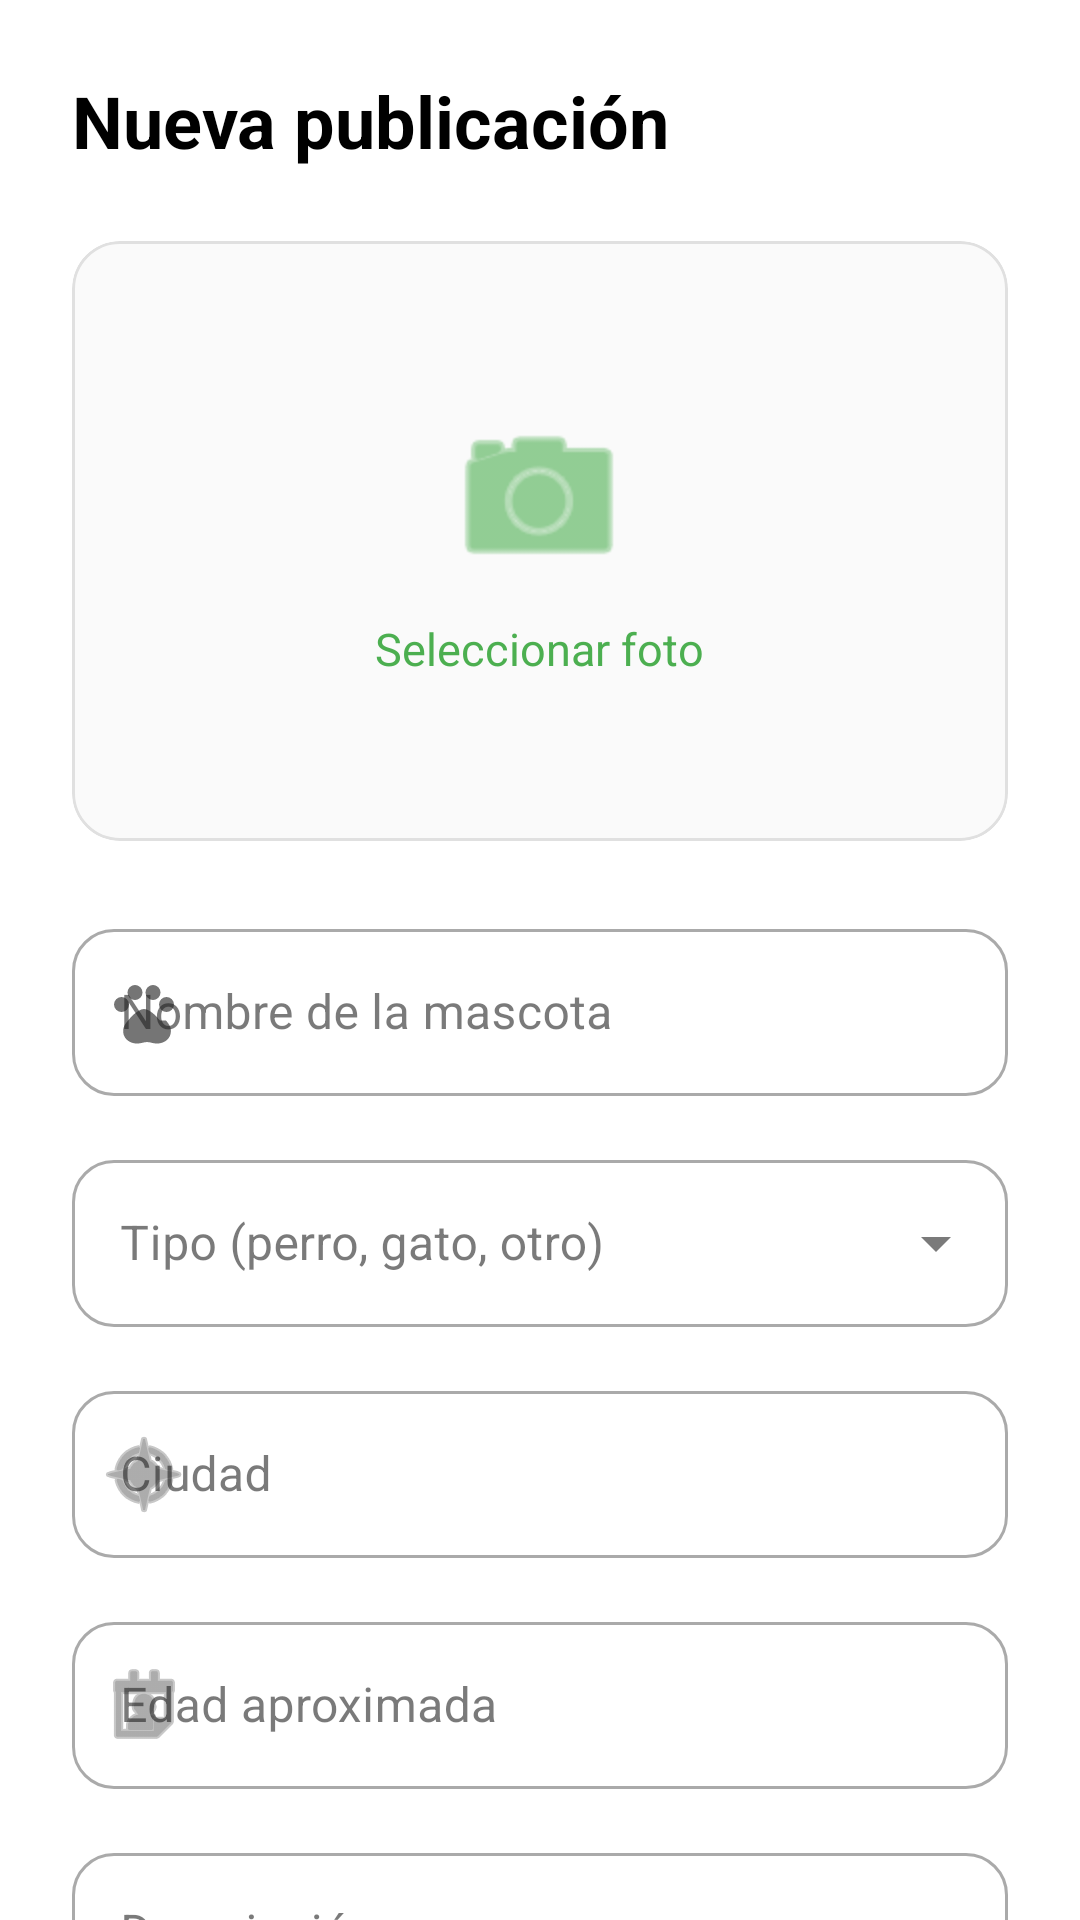

Screen size 1080*1920. Icon name, then its center in pixels as [x,y]:
camera: [539,495]
